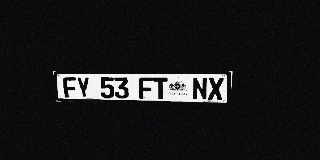plate: (53, 71, 232, 105)
